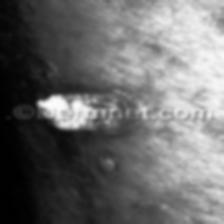Potentially Malignant Skin Tumors: (38, 90, 148, 110), (41, 119, 147, 137), (92, 152, 124, 178)
